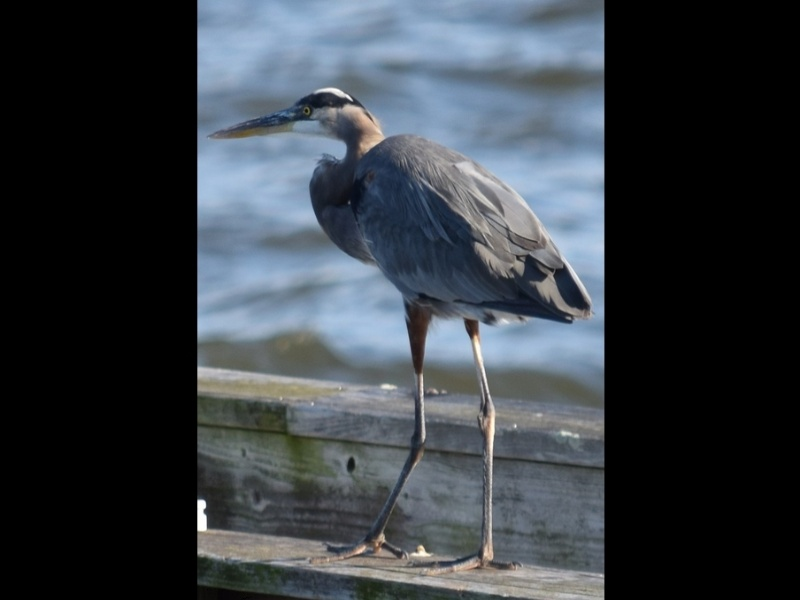heron: (206, 84, 591, 573)
